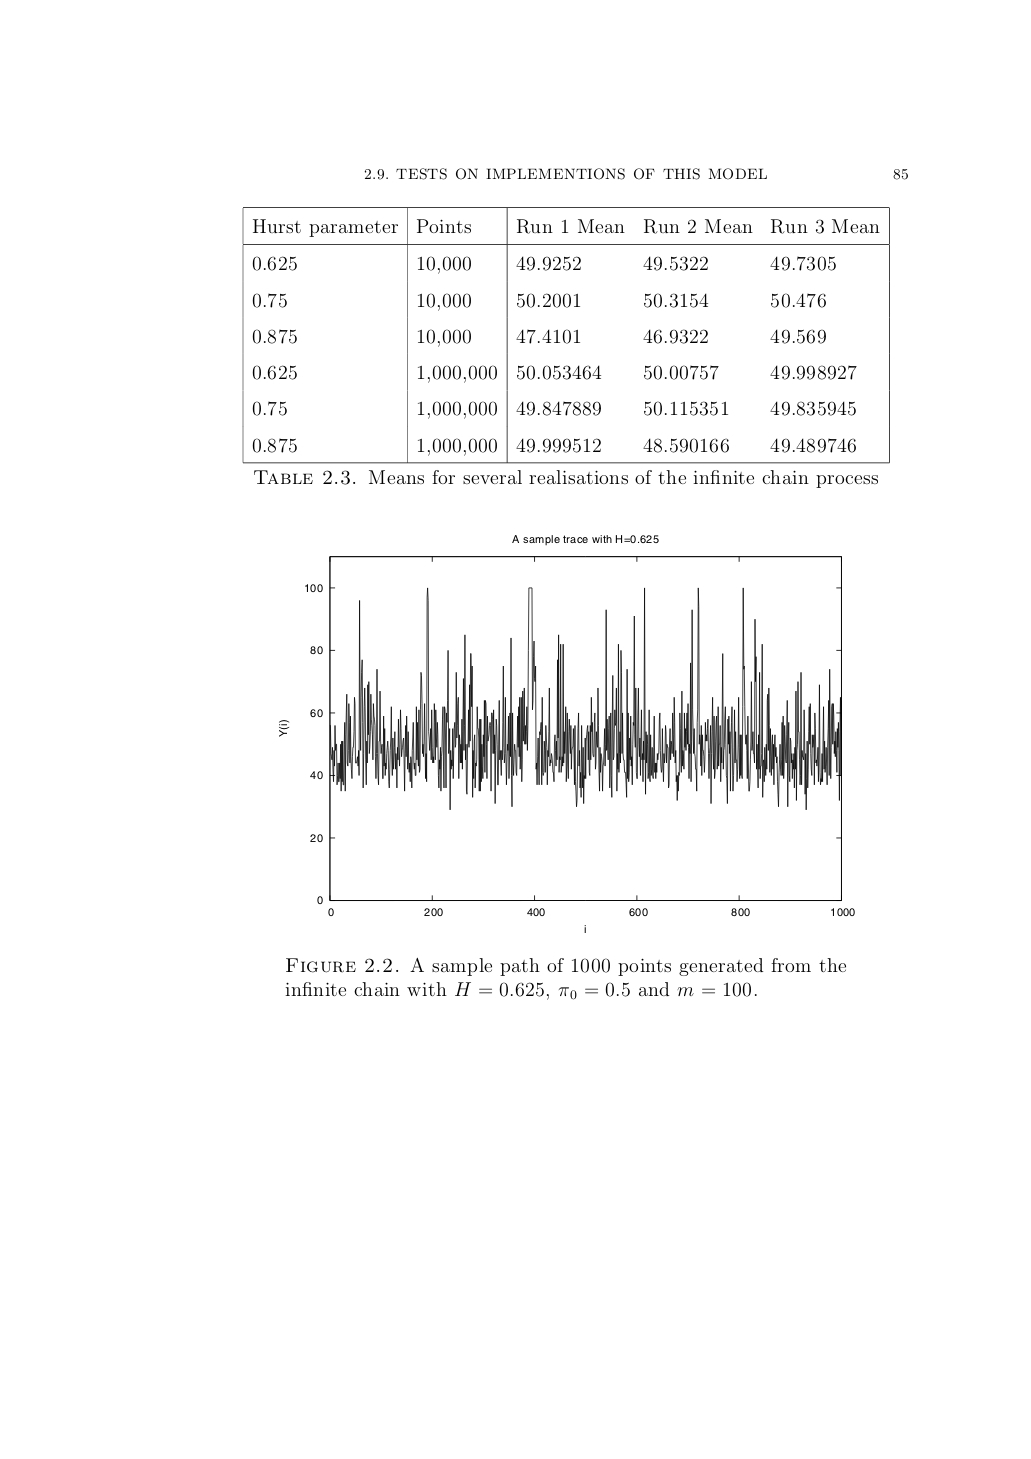Table: (242, 205, 889, 464)
figure: (279, 555, 854, 933)
